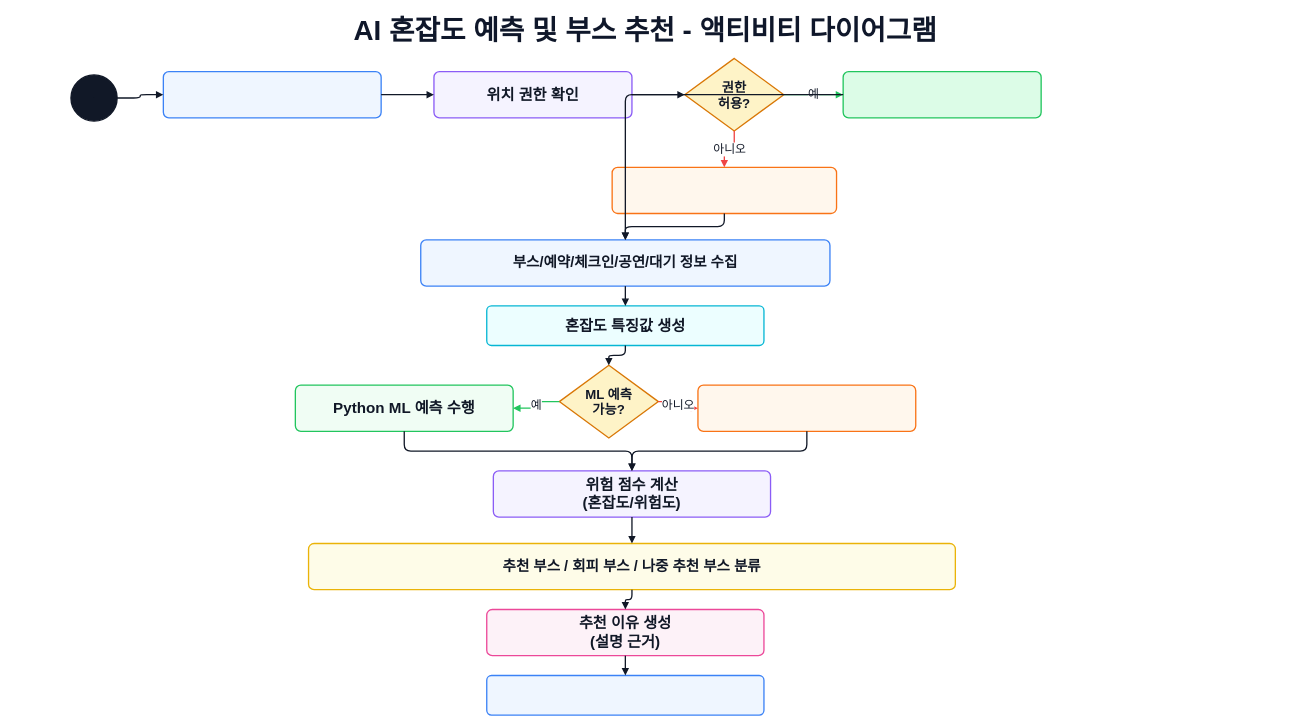
This 1290x727 diagram has some shape labels left out. Here are the shapes that lost their labels. From the top down, the centre of each, then its label:
At point 271,94: "사용자가 지도/분석 페이지 접속".
At point 941,94: "GPS 수집 및 저장".
At point 724,190: "일반 축제 데이터만 사용".
At point 806,408: "규칙 기반 fallback 사용".
At point 625,695: "화면에 결과 표시".
